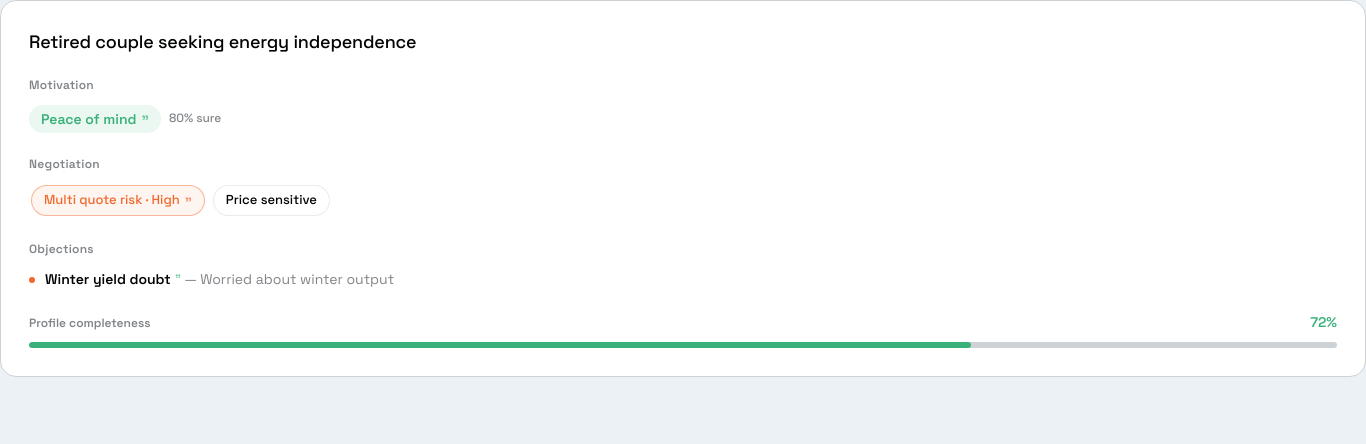
Scenario: ProfilePanel › user interaction cancels auto-demo
// User clicks a chip before auto-demo fires — cancels auto-demo
Click the button "Peace of mind". click: (95, 119)
box: 29,105 -> 161,133
Wait 5000 ms
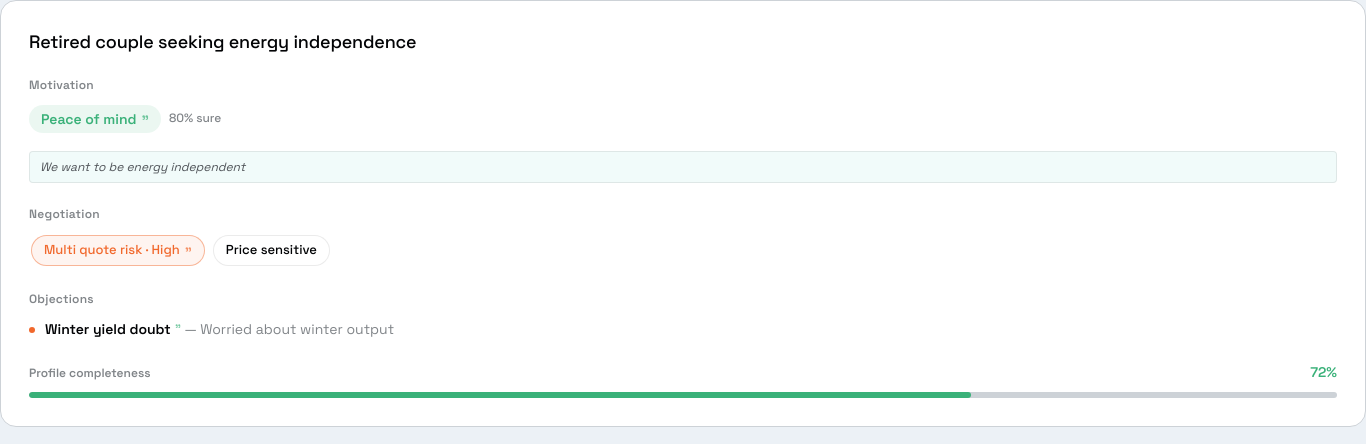
Now the text "We want to be energy independent" is shown, box 29,151 -> 1337,183
